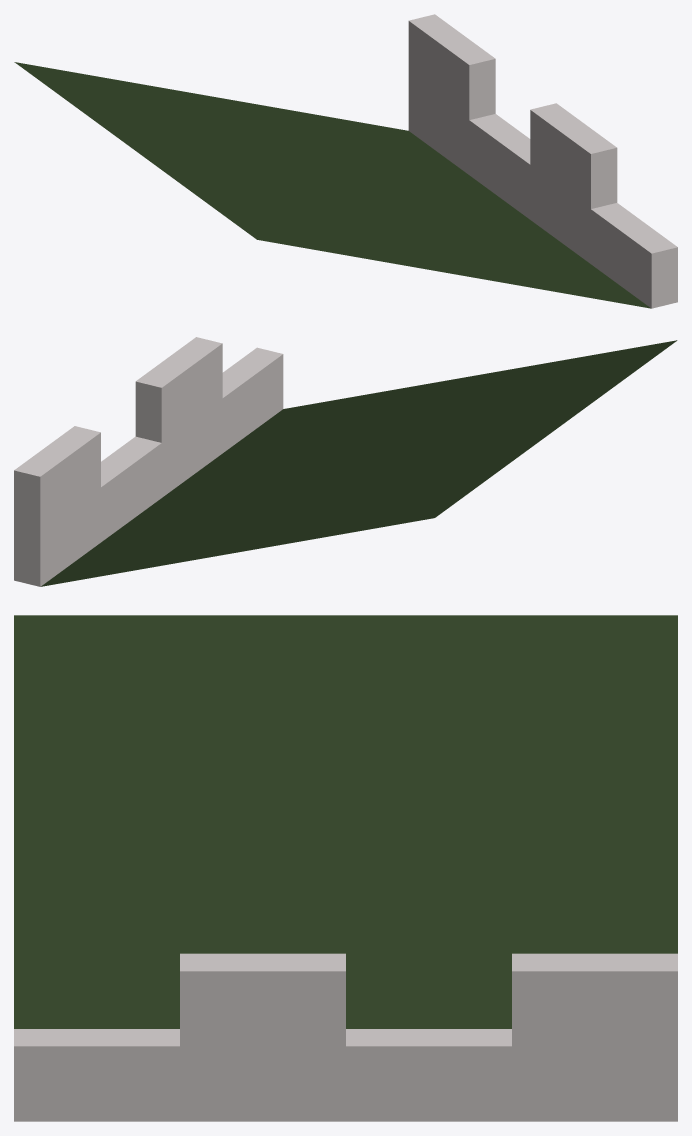
Rendered from model_loc_1669_a.obj.
3 views of the same model, one above another, from view 1: azimuth 30°, elevation 25°; view 2: azimuth 150°, elevation 25°; view 3: azimuth 270°, elevation 25° (orthographic). The views are drawn at different scales.
Parts seen in each view (by area): view 1: 1966; view 2: 1966; view 3: 1966.
Boxes of the visible parts, x1,y1,x2,y2 form: 1966: (14,14,677,308); 1966: (14,337,677,586); 1966: (14,615,677,1121).
Bounding box in the file's own units: 128 × 48 × 128.
